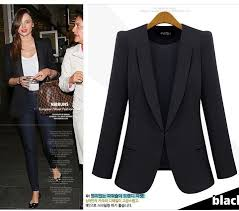F_W_suit jacket: (90, 22, 239, 199)
